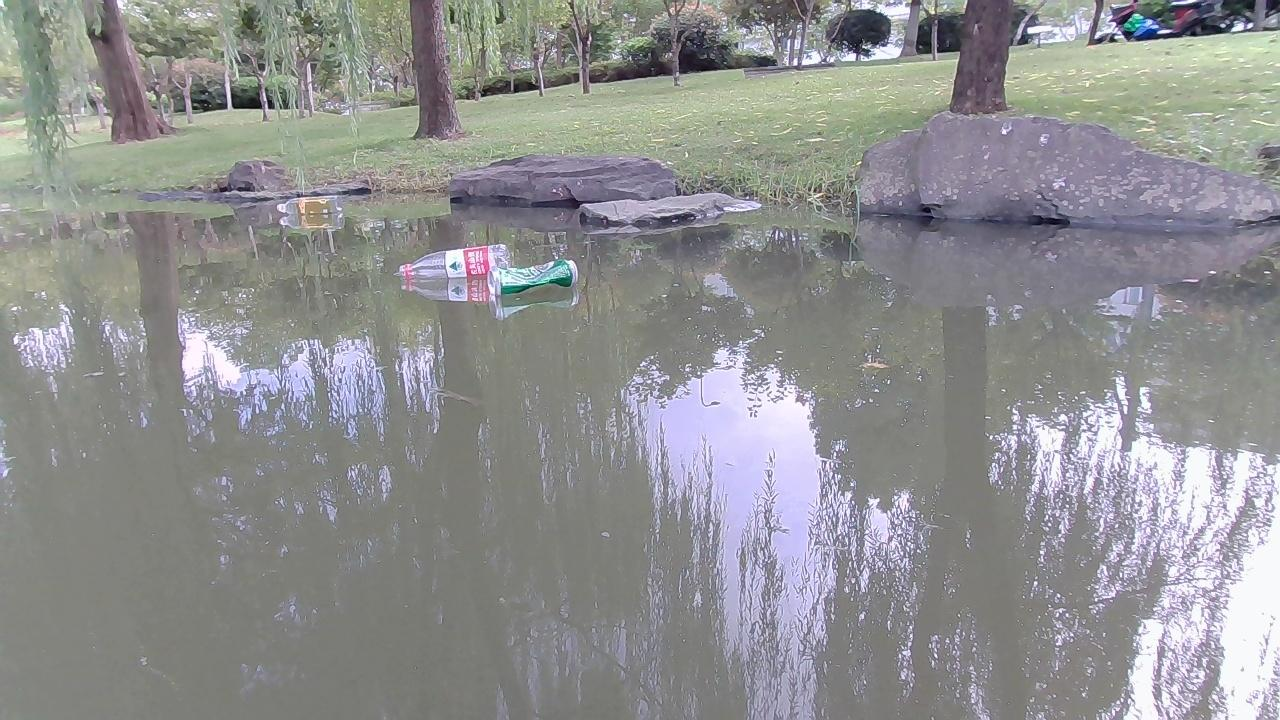bottle: (397, 244, 518, 282), (483, 259, 581, 297), (279, 193, 341, 222)
